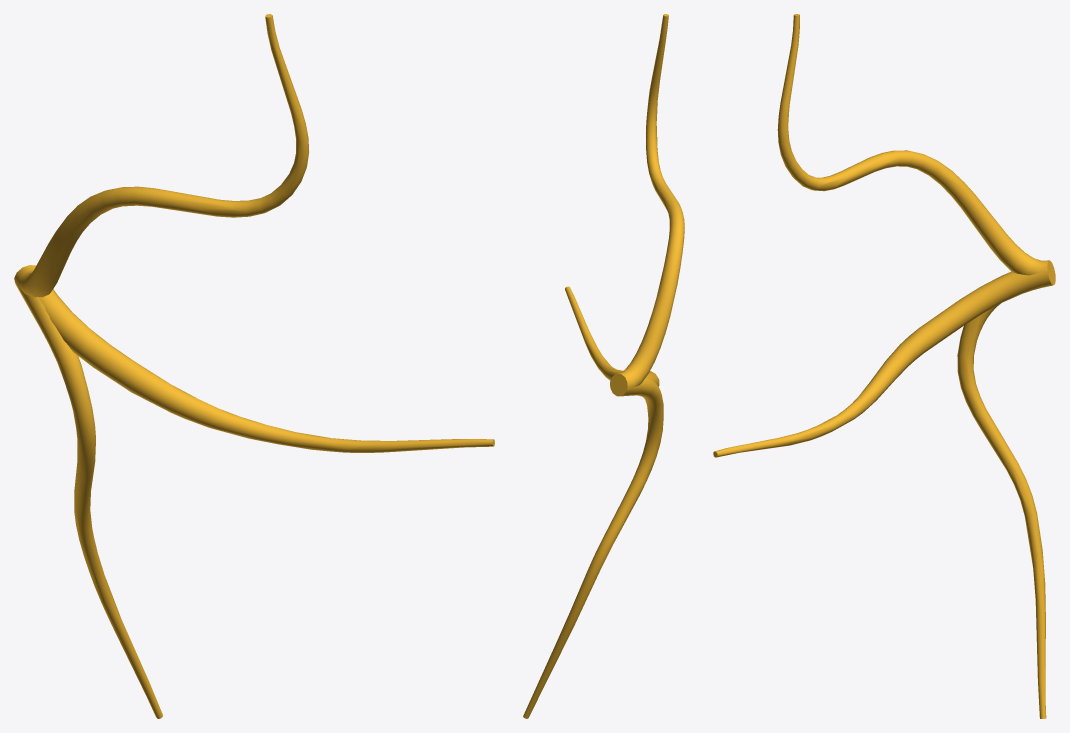
The model's file is nervoso-mental-nerve-r.glb.
3 renders of one model, left to right at view 1: azimuth 30°, elevation 25°; view 2: azimuth 150°, elevation 25°; view 3: azimuth 270°, elevation 25°, orthographic. The views are drawn at different scales.
Parts seen in each view (by area): view 1: Mental nerve.r; view 2: Mental nerve.r; view 3: Mental nerve.r.
Boxes of the visible parts, x1,y1,x2,y2 form: Mental nerve.r: (14, 14, 494, 718); Mental nerve.r: (523, 14, 684, 718); Mental nerve.r: (713, 14, 1055, 718).
Bounding box in the file's own units: 0.00443 × 0.0119 × 0.00536.
